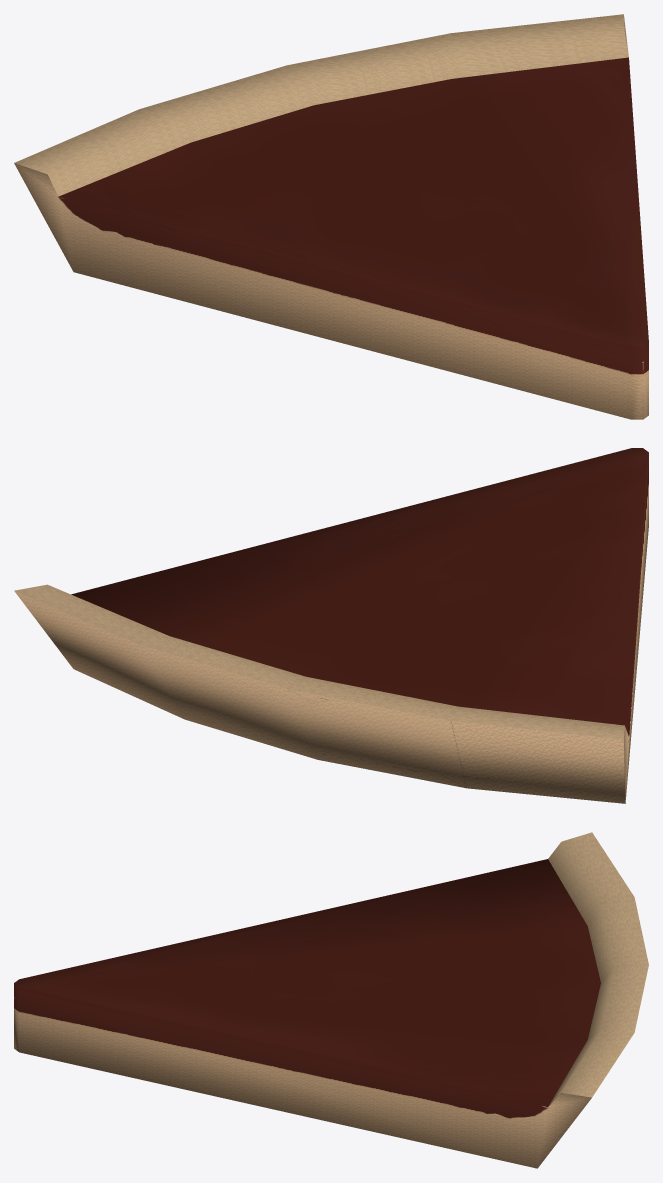
The model's file is WorldItem_PizzaBBQSaucedSlice.fbx.
3 renders of one model, top to bottom at view 1: azimuth 30°, elevation 25°; view 2: azimuth 150°, elevation 25°; view 3: azimuth 270°, elevation 25°, orthographic. The views are drawn at different scales.
Parts seen in each view (by area): view 1: Pie_Lemonmeringue001; view 2: Pie_Lemonmeringue001; view 3: Pie_Lemonmeringue001.
Part boxes in pixels (x1,y1,x2,y2): Pie_Lemonmeringue001: (14,14,648,419); Pie_Lemonmeringue001: (14,448,648,803); Pie_Lemonmeringue001: (14,832,648,1168).
Bounding box in the file's own units: 22.09 × 3.25 × 22.34.
